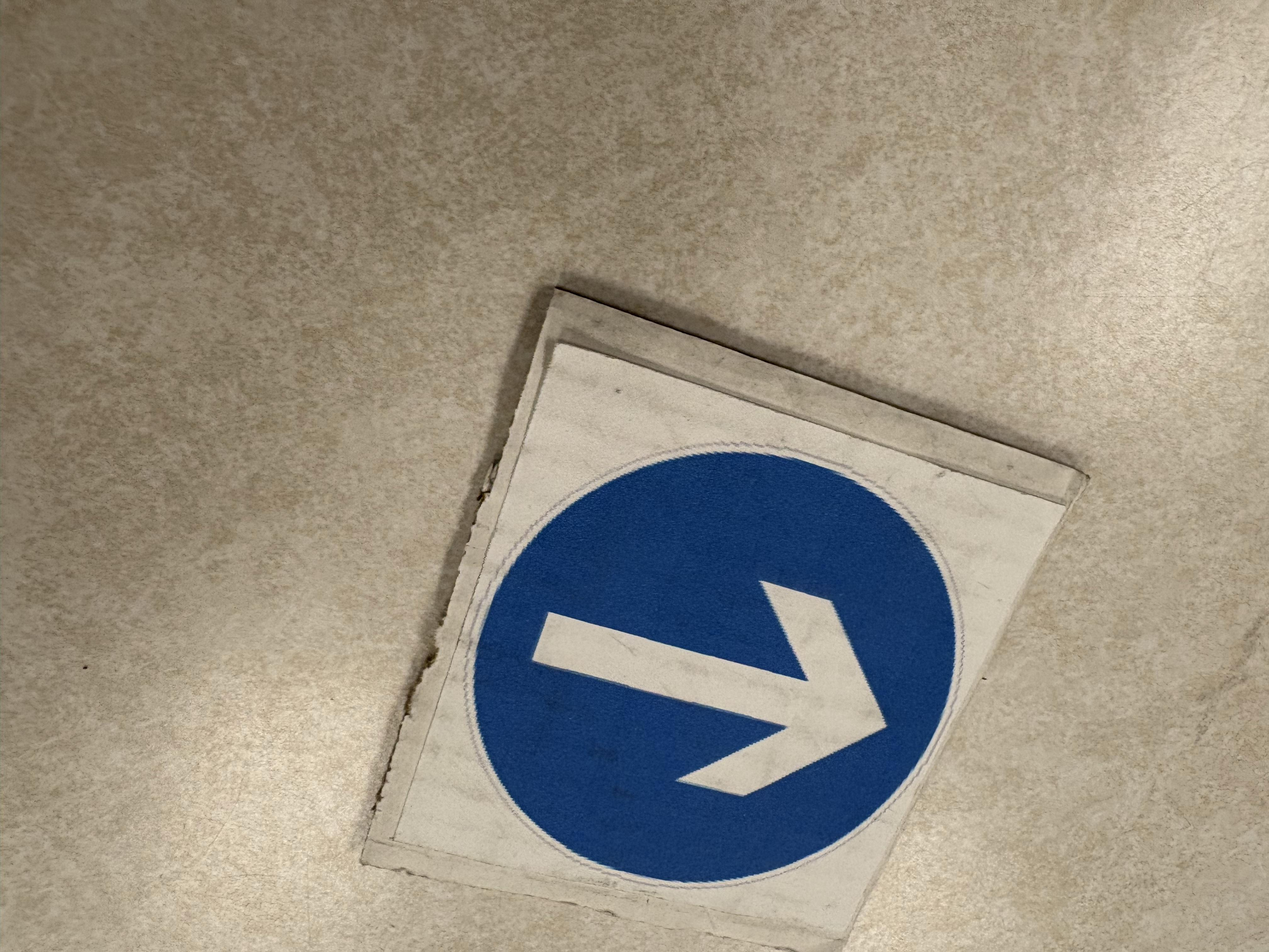Proceed Right: (358, 290, 1095, 949)
